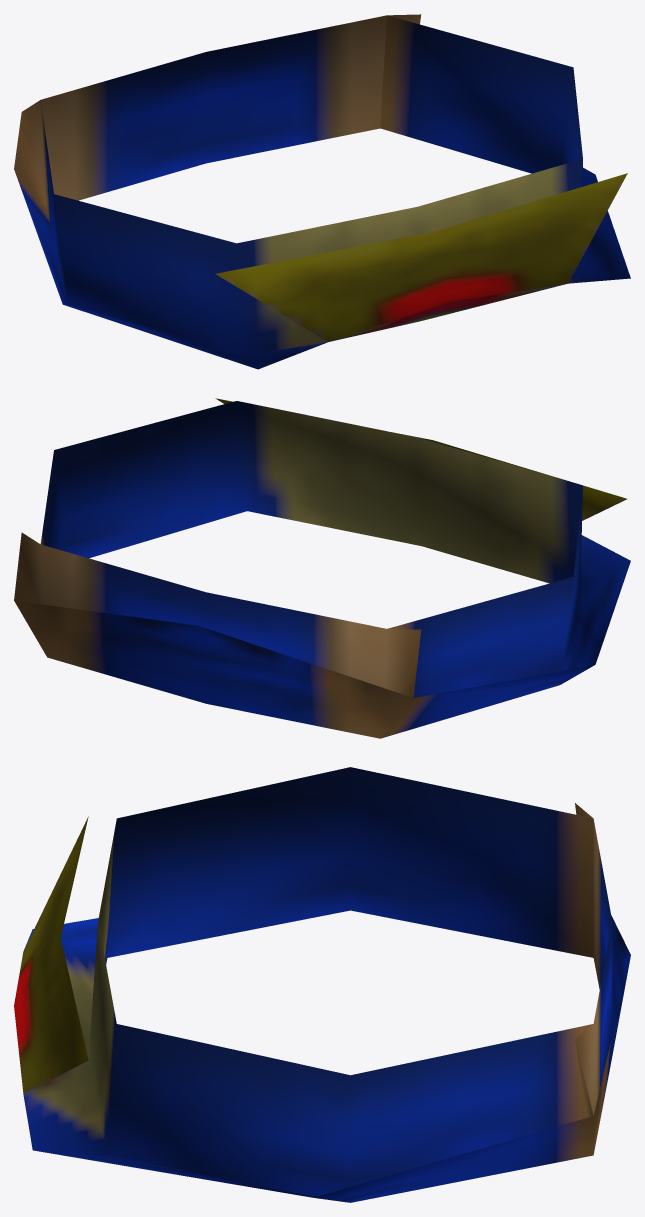
File: batch_0003.obj
3 views of the same model, one above another, from view 1: azimuth 30°, elevation 25°; view 2: azimuth 150°, elevation 25°; view 3: azimuth 270°, elevation 25° (orthographic). The views are drawn at different scales.
Parts seen in each view (by area): view 1: batch_0003; view 2: batch_0003; view 3: batch_0003.
Part boxes in pixels (x1,y1,x2,y2): batch_0003: (14, 14, 630, 369); batch_0003: (14, 398, 630, 738); batch_0003: (14, 767, 630, 1202).
Bounding box in the file's own units: 20 × 4 × 16.5.
1 material, 1 textured.
